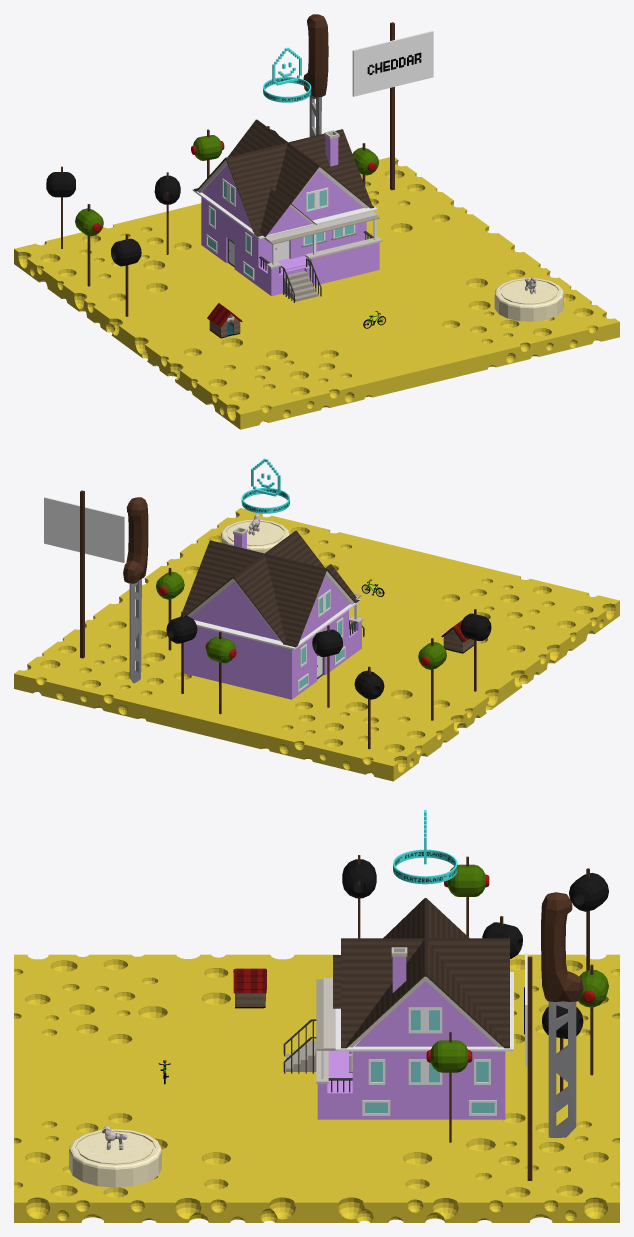
3 views of the same model, one above another, from view 1: azimuth 30°, elevation 25°; view 2: azimuth 150°, elevation 25°; view 3: azimuth 270°, elevation 25° (orthographic). The views are drawn at different scales.
Visible parts, largest first — view 1: Cube.022, Cube.391, Cube.023, Cylinder.016, Cube.024, TYPE_PREMIUM, Sphere.017, Sphere.018, OBJRANDOM_DOGHOUSE, Sphere.016, Sphere.020, Sphere.022 (+1 smaller); view 2: Cube.022, Cube.391, Cube.023, Cube.024, Cylinder.016, TYPE_PREMIUM, Sphere.021, Sphere.017, Sphere.020, Sphere.022, Sphere.016, Sphere.018 (+2 smaller); view 3: Cube.022, Cube.391, Cube.024, Cylinder.016, Cube.023, Sphere.019, Sphere.016, OBJRANDOM_DOGHOUSE, TYPE_PREMIUM, Sphere.017, Sphere.018, Sphere.022 (+2 smaller).
Boxes of the visible parts, bbox=[...] form: Cube.022: bbox=[14, 157, 619, 429]; Cube.391: bbox=[192, 119, 382, 302]; Cube.023: bbox=[352, 22, 433, 190]; Cylinder.016: bbox=[494, 278, 563, 321]; Cube.024: bbox=[303, 14, 328, 136]; TYPE_PREMIUM: bbox=[263, 47, 311, 102]; Sphere.017: bbox=[111, 234, 141, 316]; Sphere.018: bbox=[75, 204, 103, 286]; OBJRANDOM_DOGHOUSE: bbox=[207, 303, 242, 338]; Sphere.016: bbox=[46, 166, 75, 248]; Sphere.020: bbox=[154, 172, 180, 254]; Sphere.022: bbox=[191, 129, 224, 177]; Cube.022: bbox=[14, 508, 619, 781]; Cube.391: bbox=[179, 527, 364, 699]; Cube.023: bbox=[44, 490, 124, 658]; Cube.024: bbox=[123, 497, 148, 683]; Cylinder.016: bbox=[220, 519, 289, 553]; TYPE_PREMIUM: bbox=[241, 458, 289, 513]; Sphere.021: bbox=[166, 611, 197, 693]; Sphere.017: bbox=[460, 609, 491, 691]; Sphere.020: bbox=[312, 625, 342, 707]; Sphere.022: bbox=[205, 631, 236, 714]; Sphere.016: bbox=[354, 666, 384, 749]; Sphere.018: bbox=[418, 638, 446, 720]; Cube.022: bbox=[14, 954, 619, 1222]; Cube.391: bbox=[283, 898, 513, 1119]; Cube.024: bbox=[541, 892, 583, 1137]; Cylinder.016: bbox=[69, 1129, 161, 1187]; Cube.023: bbox=[524, 953, 532, 1180]; Sphere.019: bbox=[426, 1032, 472, 1142]; Sphere.016: bbox=[569, 868, 608, 970]; OBJRANDOM_DOGHOUSE: bbox=[233, 968, 266, 1008]; TYPE_PREMIUM: bbox=[393, 810, 457, 884]; Sphere.017: bbox=[342, 855, 376, 938]; Sphere.018: bbox=[444, 856, 489, 936]; Sphere.022: bbox=[578, 964, 608, 1075].
Bounding box in the file's own units: 3917 × 2227 × 4000.
Materials: 39 (4 with a texture image).
